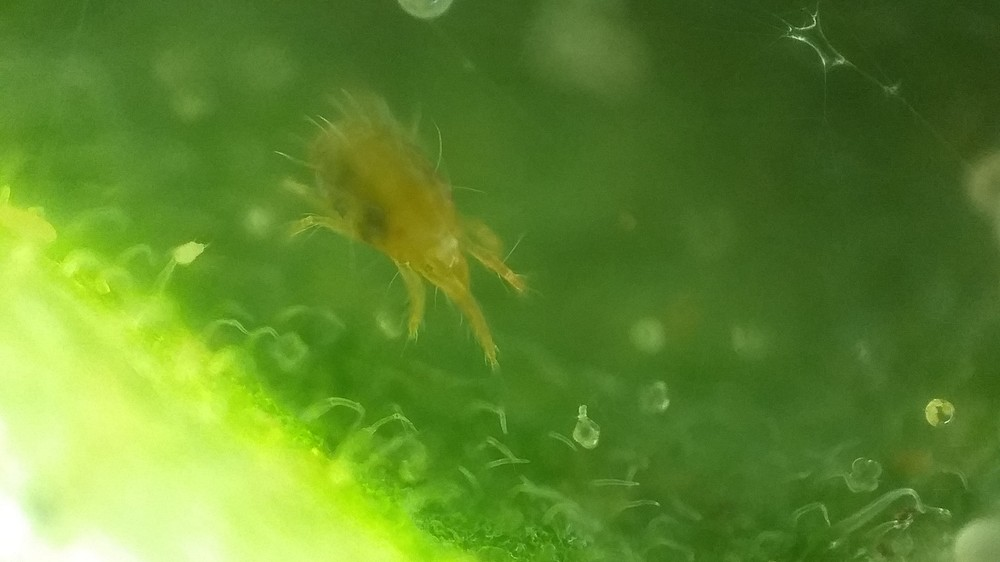Aracnido Rojo: (253, 81, 562, 419)
